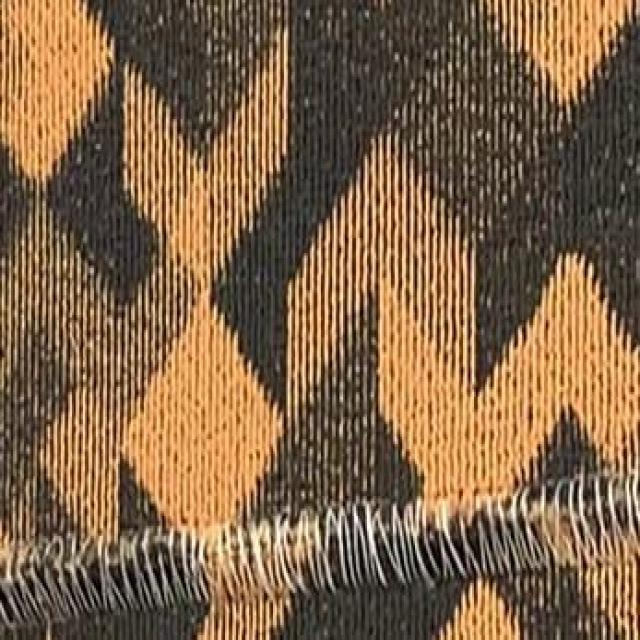gray stitch: (328, 468, 638, 592), (3, 511, 324, 630)
